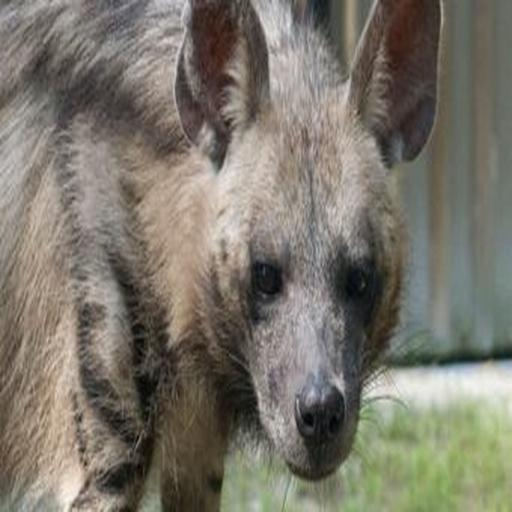Hyena: (0, 0, 449, 512)
